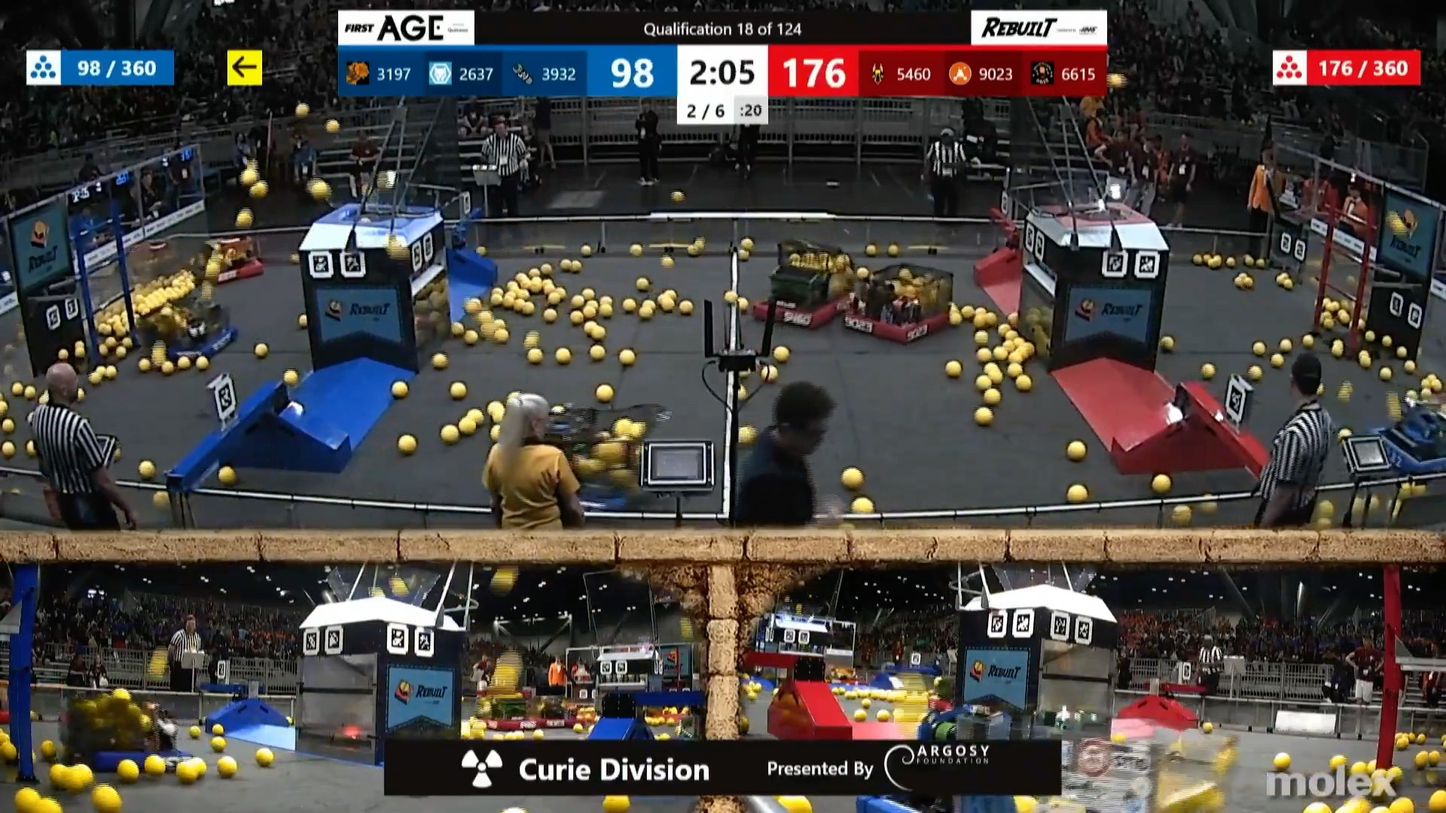bumpers: (117, 320, 252, 373), (831, 306, 956, 346), (85, 735, 192, 781), (1368, 425, 1446, 477), (753, 297, 852, 330), (196, 254, 276, 286), (474, 715, 545, 735), (533, 717, 589, 730)
